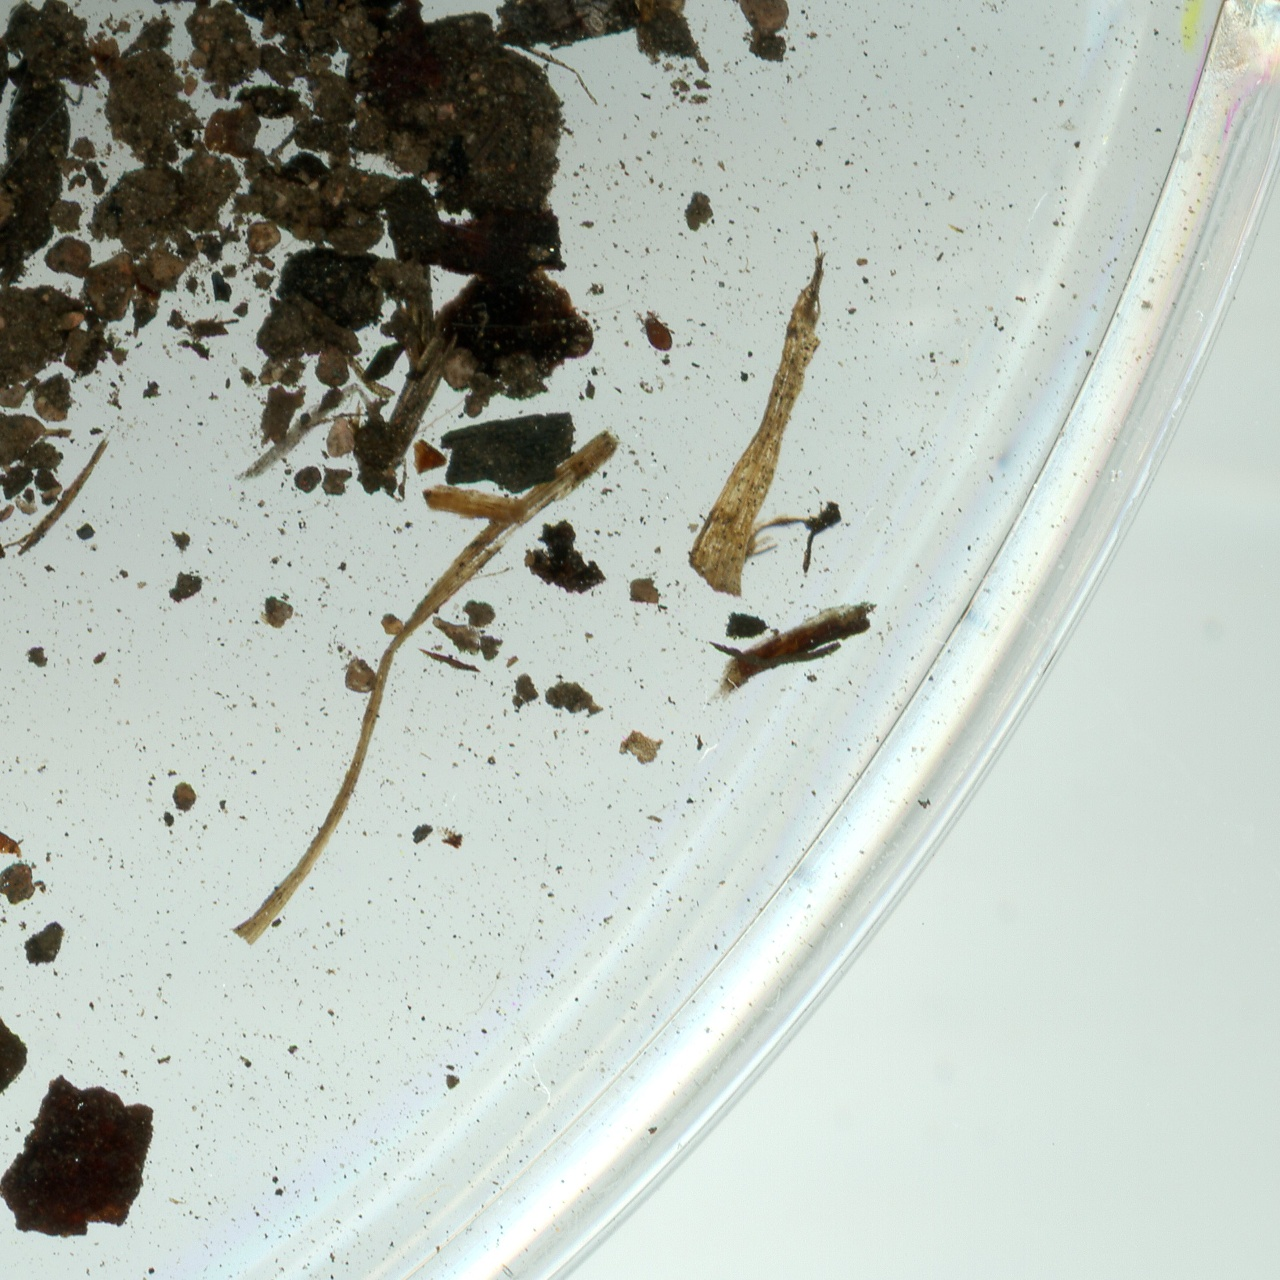arthropod: (632, 307, 679, 354)
